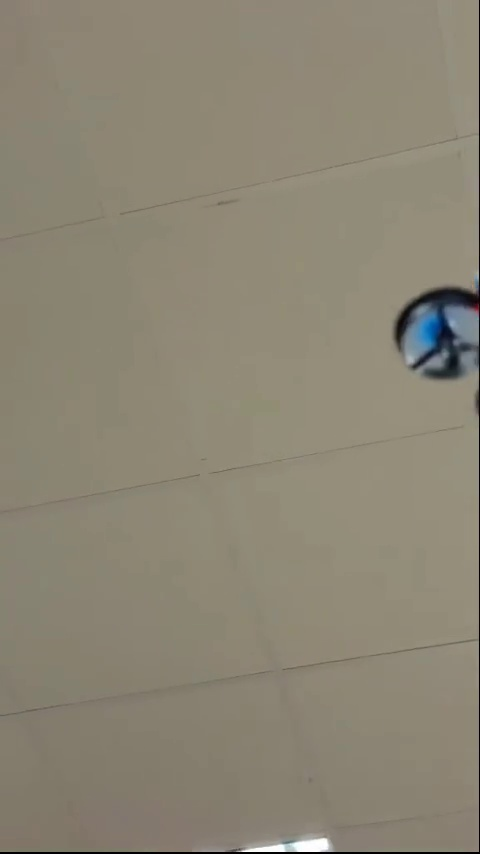drone: (397, 277, 480, 403)
